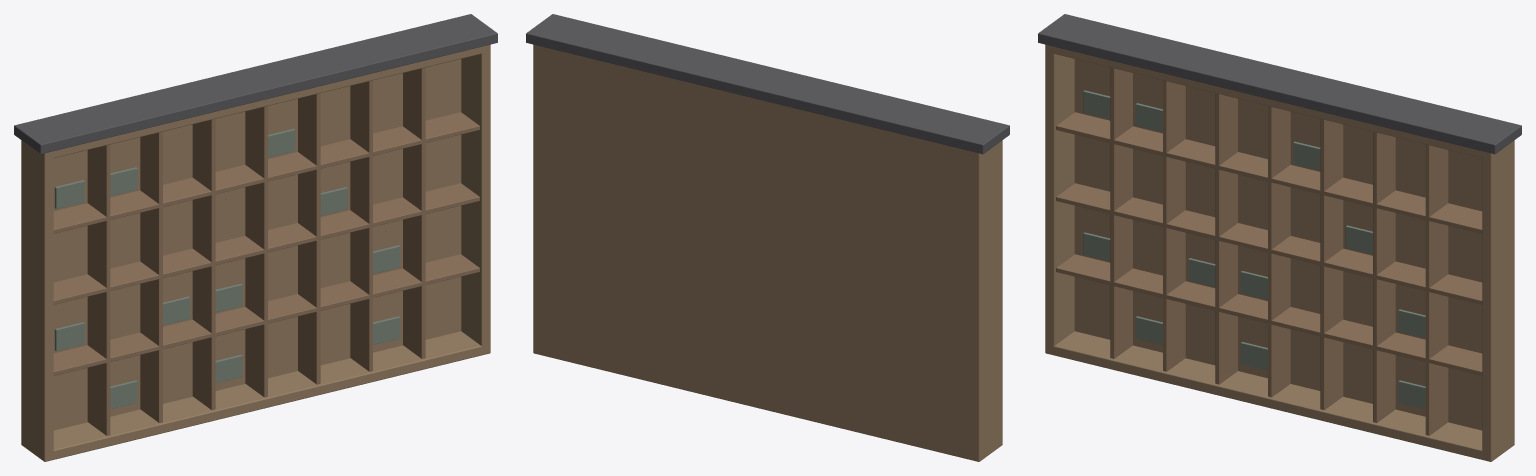
The picture shows the model from 3 angles, left to right: view 1: azimuth 30°, elevation 25°; view 2: azimuth 150°, elevation 25°; view 3: azimuth 330°, elevation 25°; orthographic projection.
Visible parts, largest first — view 1: keyRack; view 2: keyRack; view 3: keyRack.
Part boxes in pixels (bbox=[...]): keyRack: bbox=[14, 14, 497, 461]; keyRack: bbox=[526, 14, 1009, 461]; keyRack: bbox=[1038, 14, 1521, 461].
Bounding box in the file's own units: 2.46 × 1.64 × 0.25.
